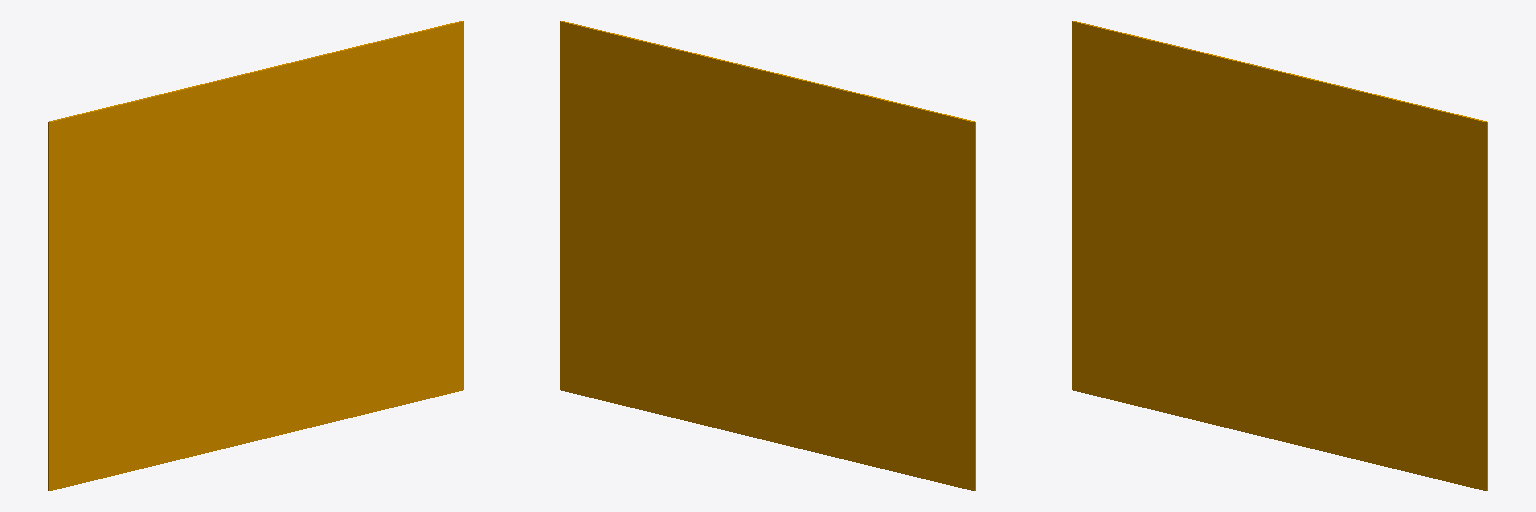
The robot description file, URDF, robot "pallet_rack":
<?xml version="1.0"?>
<robot name="pallet_rack">

  <link name="rack_base">
    
    <inertial>
      <mass value="0.5"/>
      <origin xyz="0 0 0" rpy="0 0 0"/>
      <inertia ixx="0.1" ixy="0.0" ixz="0.0" iyy="0.1" iyz="0.0" izz="0.1"/>
    </inertial>

    <visual><origin xyz="0 0 0" rpy="0 0 0"/><geometry><mesh filename="floor.dae"/></geometry></visual>
    <collision><origin xyz="0 0 0" rpy="0 0 0"/><geometry><mesh filename="floor.dae"/></geometry></collision>

  </link>
</robot>

--- Render facts (derived) ---
3 views of the same robot in one strip: view 1: azimuth 30°, elevation 25°; view 2: azimuth 150°, elevation 25°; view 3: azimuth 330°, elevation 25° (orthographic).
Model pallet_rack with 1 links and 0 joints (none), rooted at rack_base, posed all joints at 0.
Visible links, largest first — view 1: rack_base; view 2: rack_base; view 3: rack_base.
Boxes of the visible links, box(x1,y1,x2,y2) form: rack_base: box(48, 21, 463, 490); rack_base: box(560, 21, 975, 490); rack_base: box(1072, 21, 1487, 490).
Size in the robot's own frame: 10 by 0.05 by 8.5 metres.
Meshes: 1 distinct files referenced, 1 mesh visuals loaded (1 Collada DAE).
